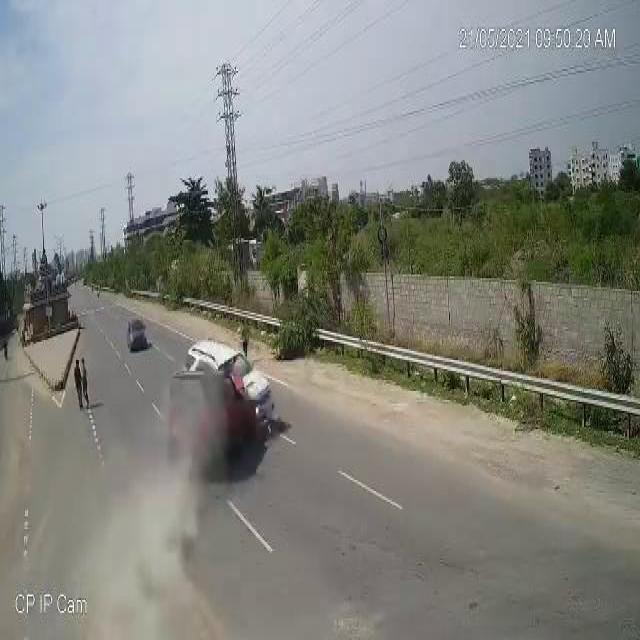accident: (160, 330, 280, 490)
